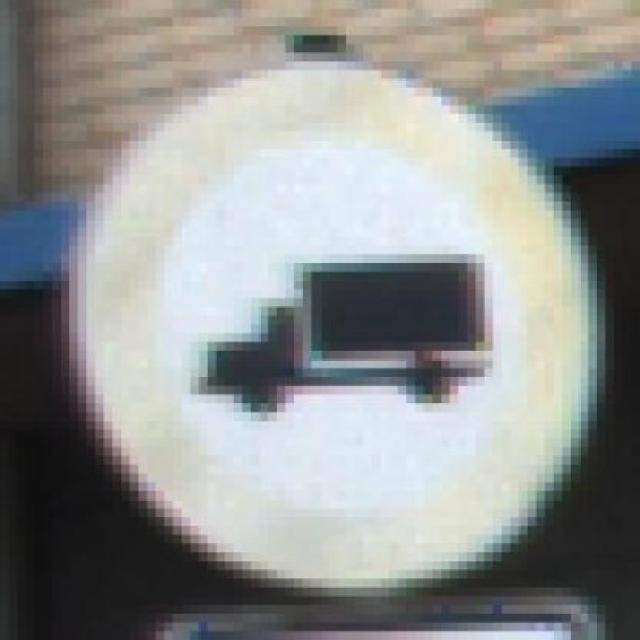Truck traffic is prohibited: (51, 34, 614, 606)
